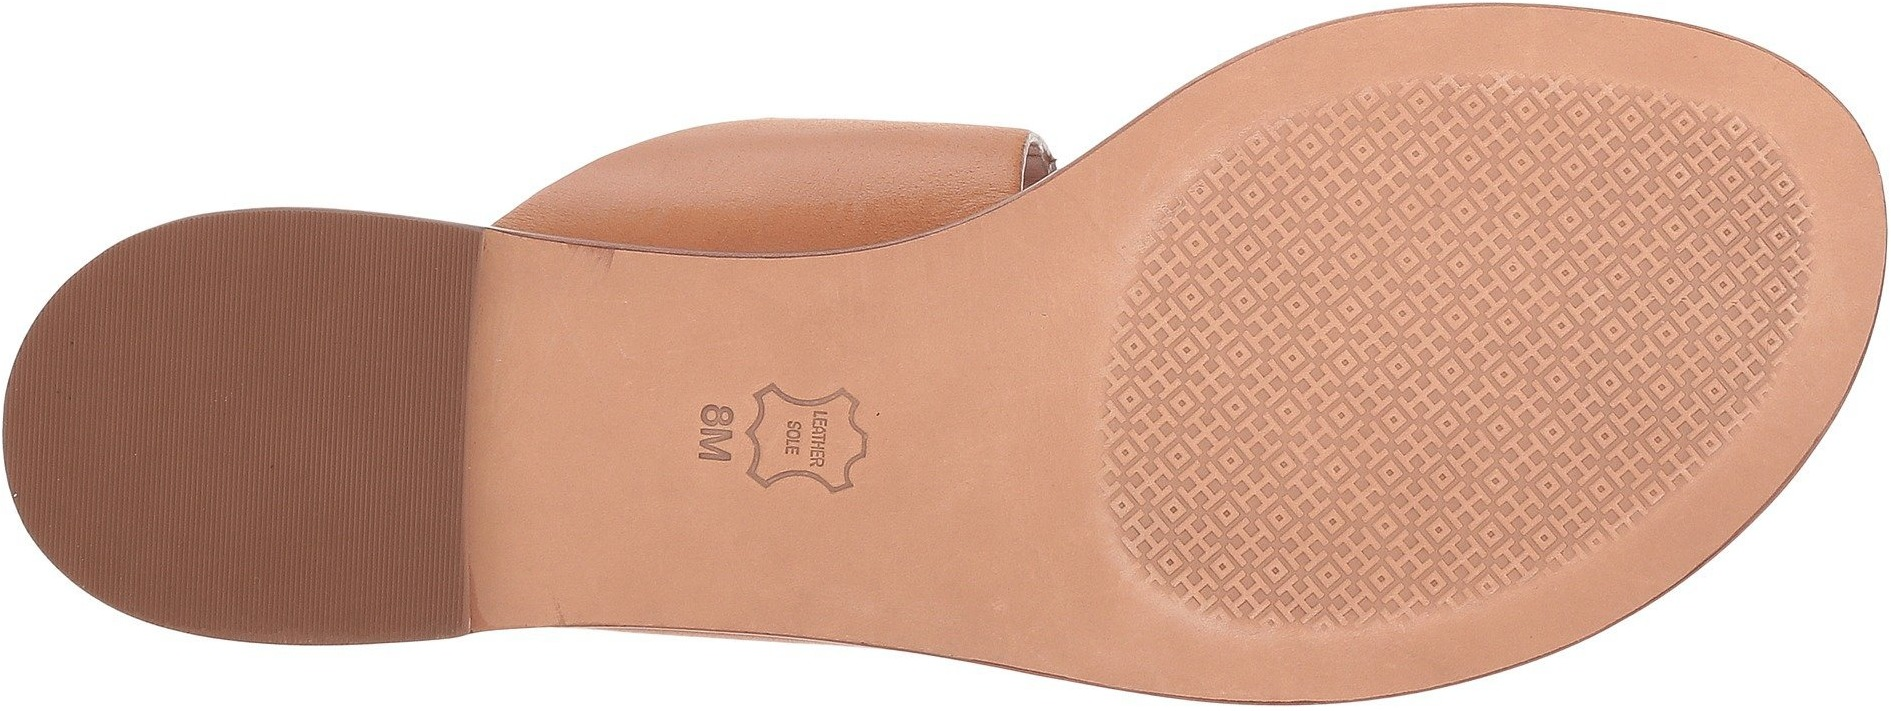exclude: (480, 70, 1071, 255), (466, 227, 706, 634)
other: (1105, 75, 1811, 631), (5, 211, 481, 642), (99, 262, 452, 589), (874, 165, 1089, 676), (879, 253, 1082, 448), (882, 446, 1081, 630)
quad: (1245, 123, 1674, 506)
star: (1245, 123, 1674, 506)
text: (683, 396, 759, 471), (773, 400, 845, 475), (777, 402, 832, 474)
